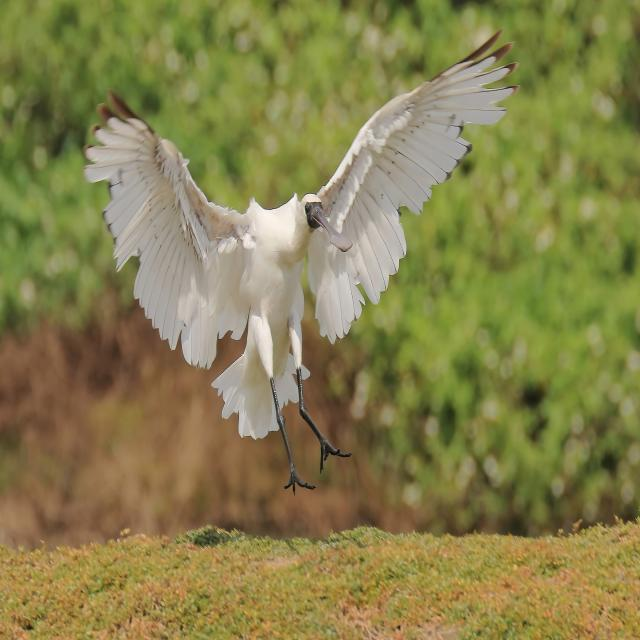Black-faced spoonbill: (85, 32, 516, 490)
